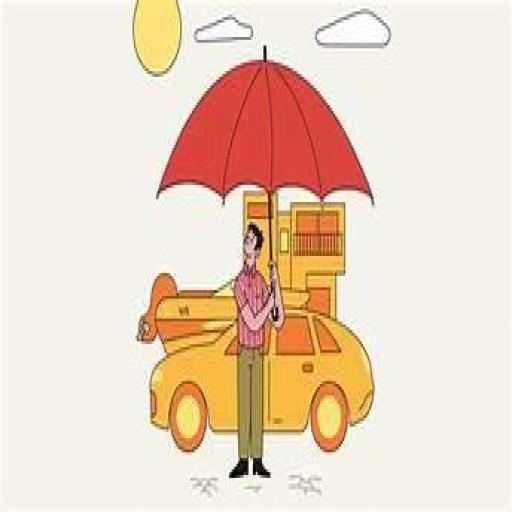guarda_chuva: (155, 42, 373, 315)
